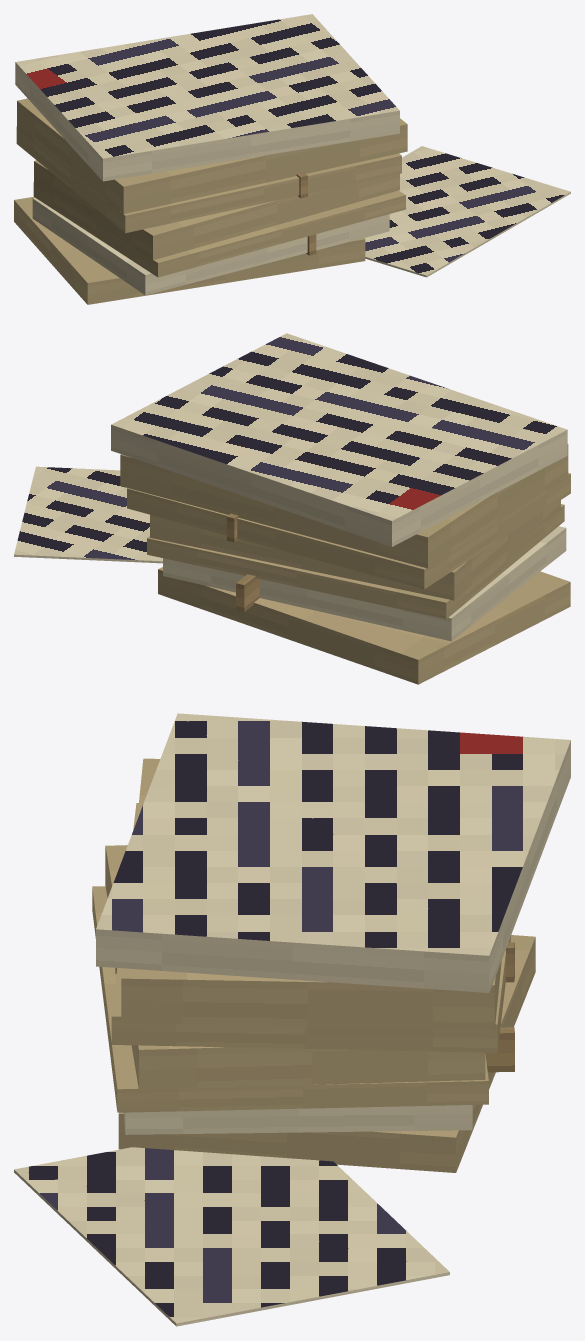
The model's file is manuscript-stack.glb.
3 renders of one model, top to bottom at view 1: azimuth 30°, elevation 25°; view 2: azimuth 150°, elevation 25°; view 3: azimuth 270°, elevation 25°, orthographic. The views are drawn at different scales.
Parts seen in each view (by area): view 1: manuscript-stack.001; view 2: manuscript-stack.001; view 3: manuscript-stack.001.
Boxes of the visible parts, x1,y1,x2,y2 form: manuscript-stack.001: (14,14,570,304); manuscript-stack.001: (14,333,570,684); manuscript-stack.001: (14,713,570,1326).
Bounding box in the file's own units: 0.538 × 0.1604 × 0.3348.
Materials: 1 (1 with a texture image).
